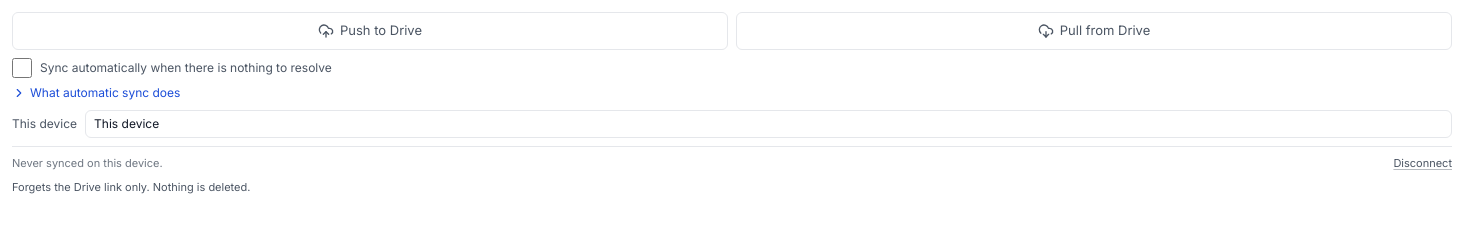
Scenario: DriveSyncControls › does not retry a non-expiry error
Click the button "Pull from Drive" at (1094,31), box top-left (736, 12), bottom-right (1452, 50)
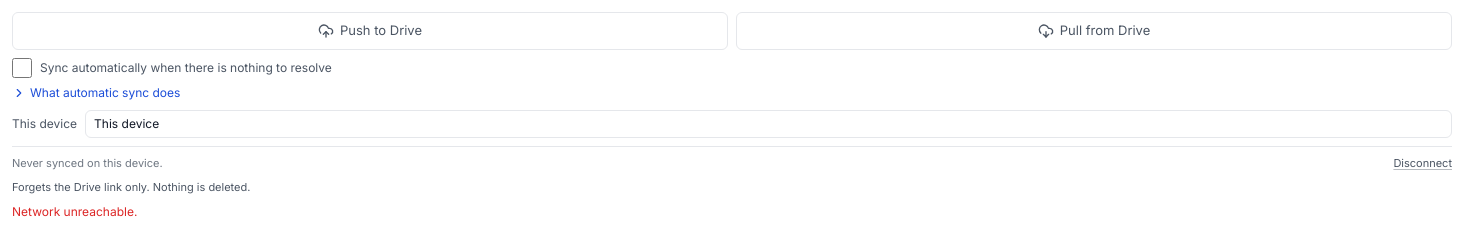
Expected: the text "Network unreachable." is shown, top-left (12, 204), bottom-right (137, 218)
